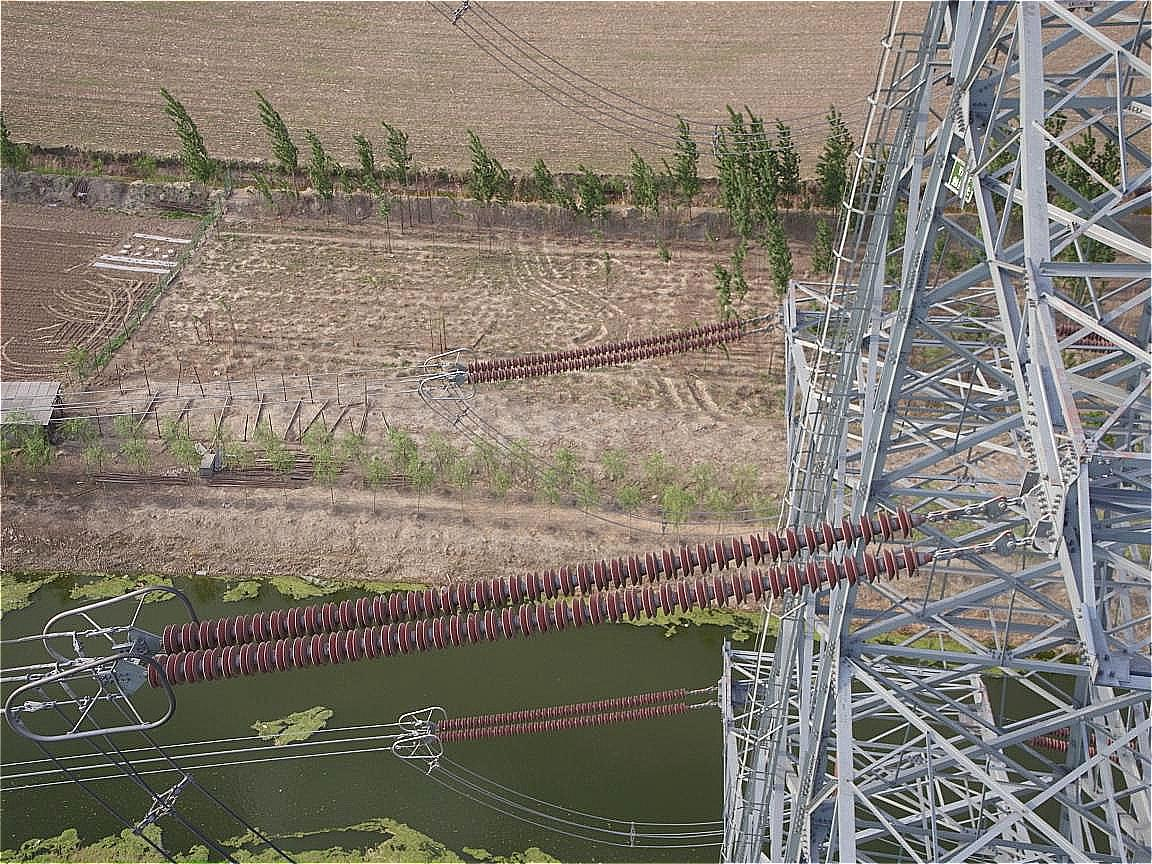insultor2: (125, 503, 961, 703), (450, 313, 764, 389), (421, 686, 707, 748)
